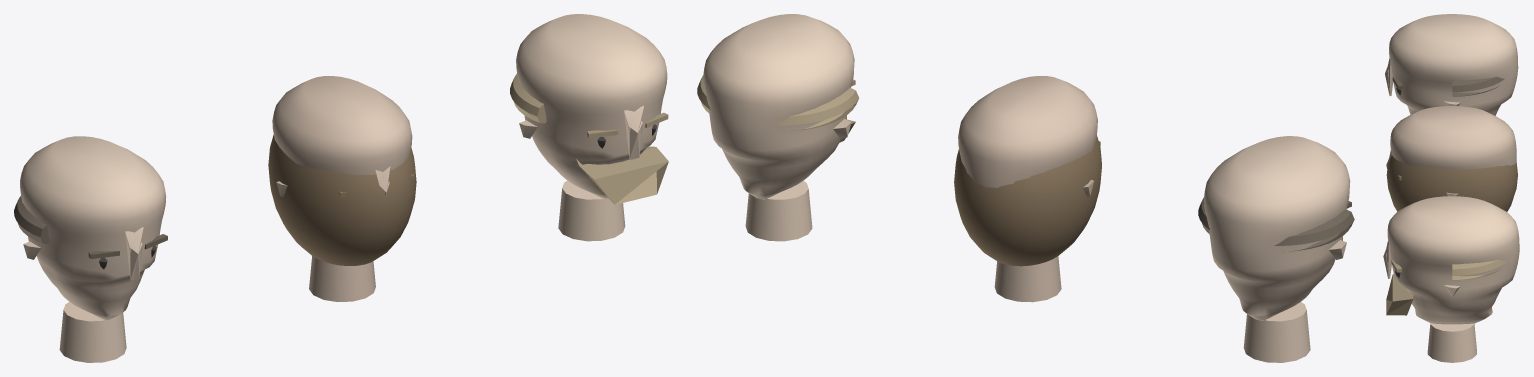
File: tls_chr_023_heads_elder_v001.fbx
3 views of the same model, side by side, from view 1: azimuth 30°, elevation 25°; view 2: azimuth 150°, elevation 25°; view 3: azimuth 270°, elevation 25° (orthographic). The views are drawn at different scales.
Parts seen in each view (by area): view 1: Head_E3, Head_E2, Head_E1; view 2: Head_E2, Head_E3, Head_E1; view 3: Head_E3, Head_E2, Head_E1.
Boxes of the visible parts, <box> form: Head_E3: <box>510,14,668,241</box>; Head_E2: <box>268,76,416,301</box>; Head_E1: <box>14,136,167,362</box>; Head_E2: <box>954,76,1101,302</box>; Head_E3: <box>697,14,858,241</box>; Head_E1: <box>1198,136,1354,362</box>; Head_E3: <box>1383,196,1519,362</box>; Head_E2: <box>1386,106,1517,211</box>; Head_E1: <box>1385,14,1518,115</box>.
Bounding box in the file's own units: 0.768 × 0.1891 × 0.2215.
